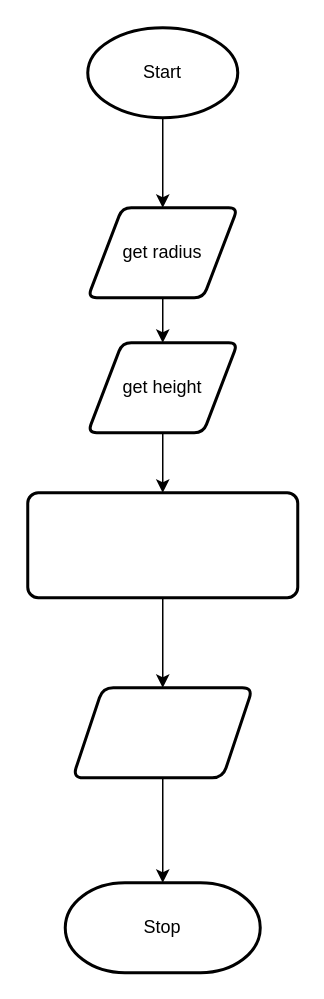
This 324x999 diagram has some shape labels left out. The centre of each missing label's shape, as x and y in pixels:
Return Volume: (162,732)
Volume = π * Radius 2 * Height: (162,544)
